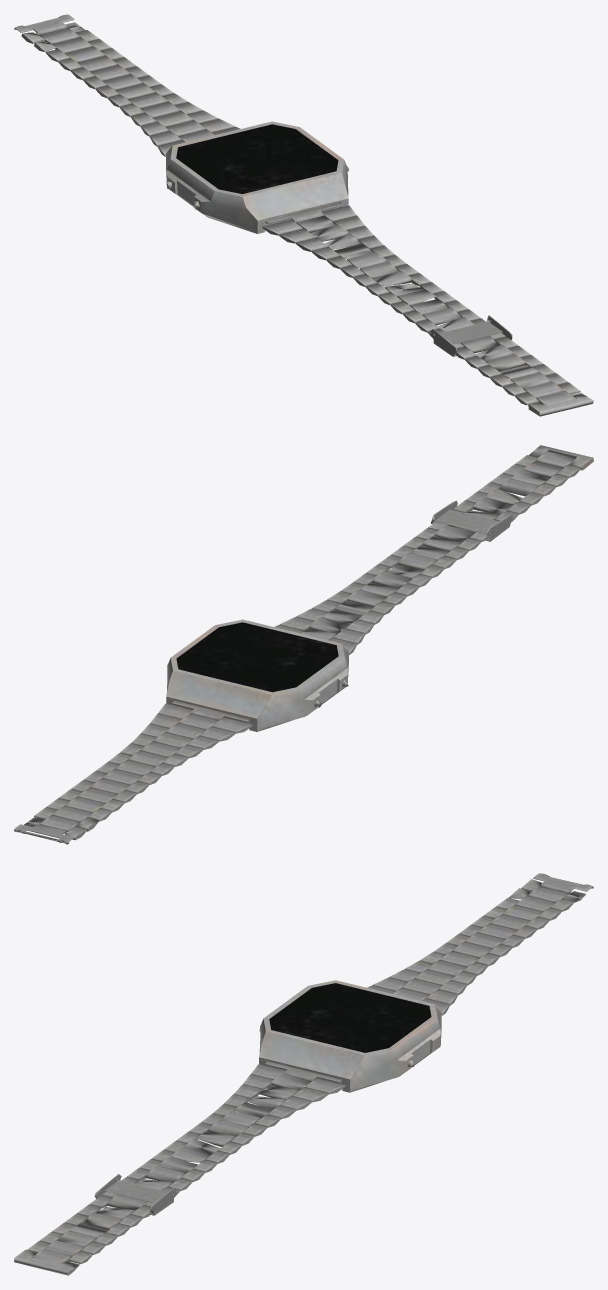
The model's file is ph_digital_wrist_watch.glb.
3 views of the same model, one above another, from view 1: azimuth 30°, elevation 25°; view 2: azimuth 150°, elevation 25°; view 3: azimuth 330°, elevation 25° (orthographic).
Visible parts, largest first — view 1: digital_wrist_watch; view 2: digital_wrist_watch; view 3: digital_wrist_watch.
Boxes of the visible parts, x1,y1,x2,y2 form: digital_wrist_watch: [14, 14, 593, 416]; digital_wrist_watch: [14, 445, 593, 844]; digital_wrist_watch: [14, 873, 593, 1275].
Size of the model in its own units: 0.0365 by 0.00835 by 0.2172.
2 materials, 2 textured.
